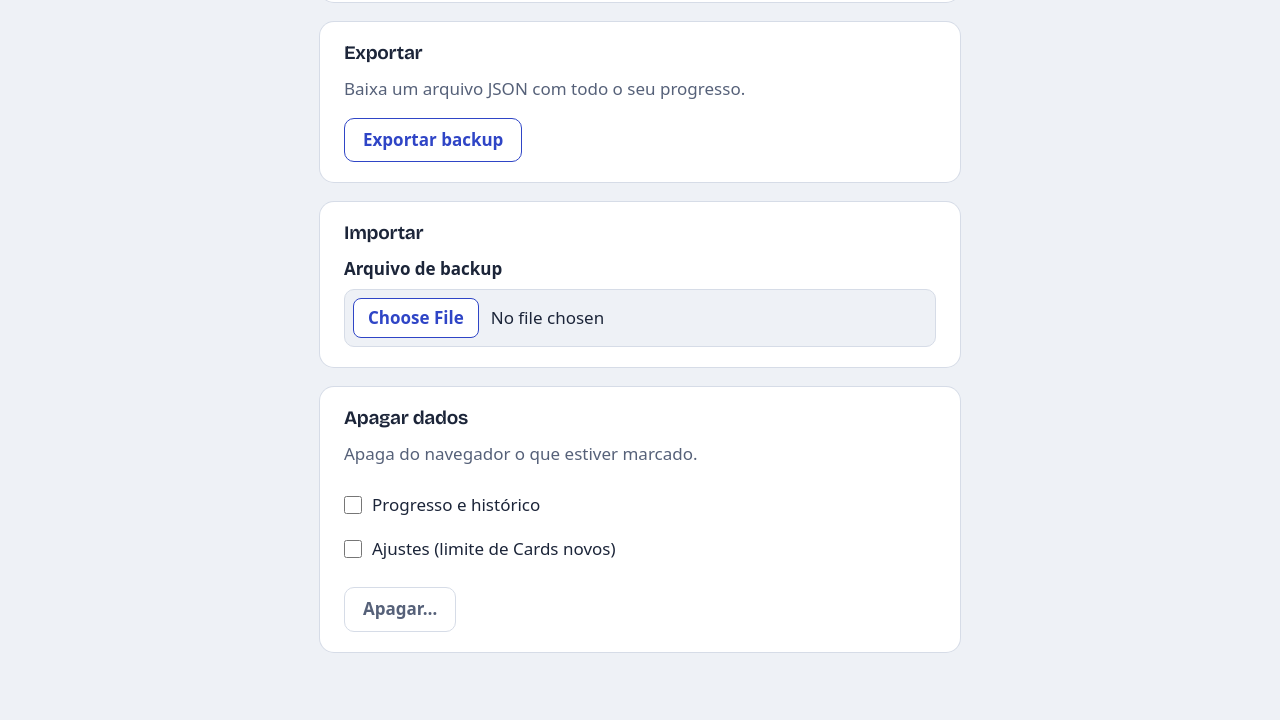
Test: Configuracoes › apagar dados › exportar antes baixa o backup sem fechar o modal
This screenshot has width=1280, height=720.
(page scrolled)
Step 1. Click the checkbox labelled "Progresso e histórico" → (353, 505), box [344,496,362,514]
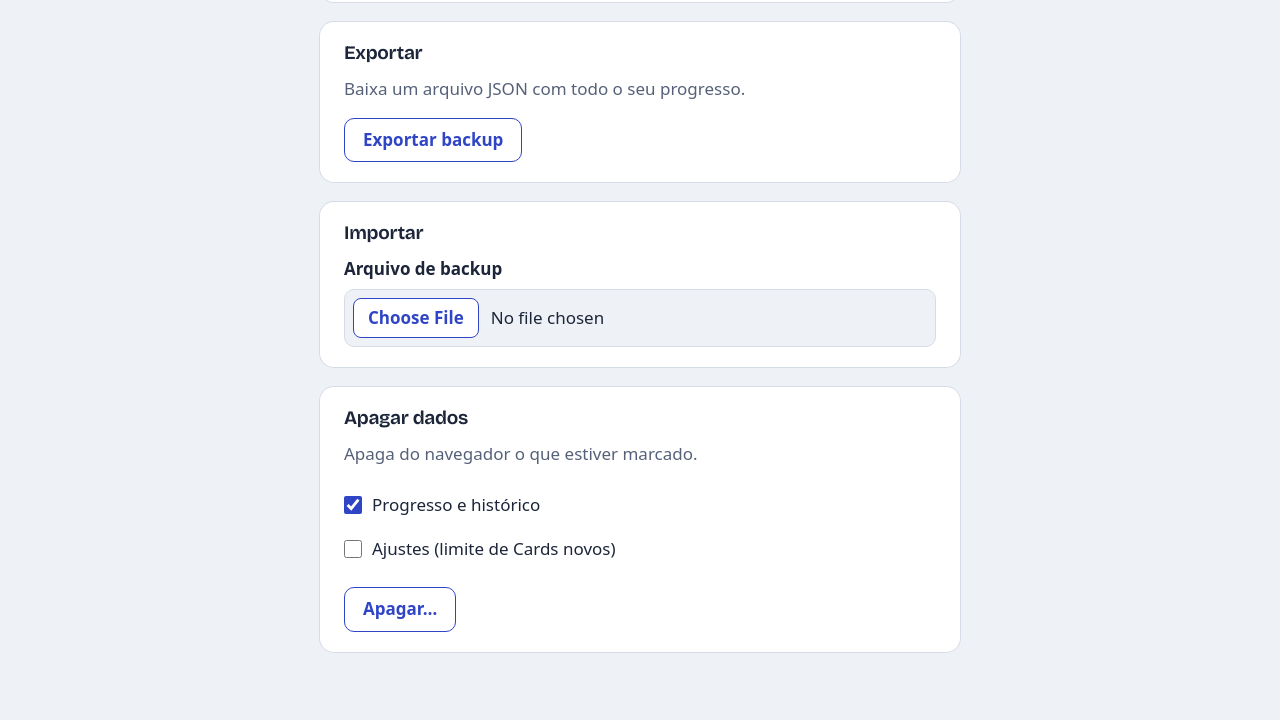
Step 2. Click the button "Apagar…" → (400, 609), box [344,587,456,632]
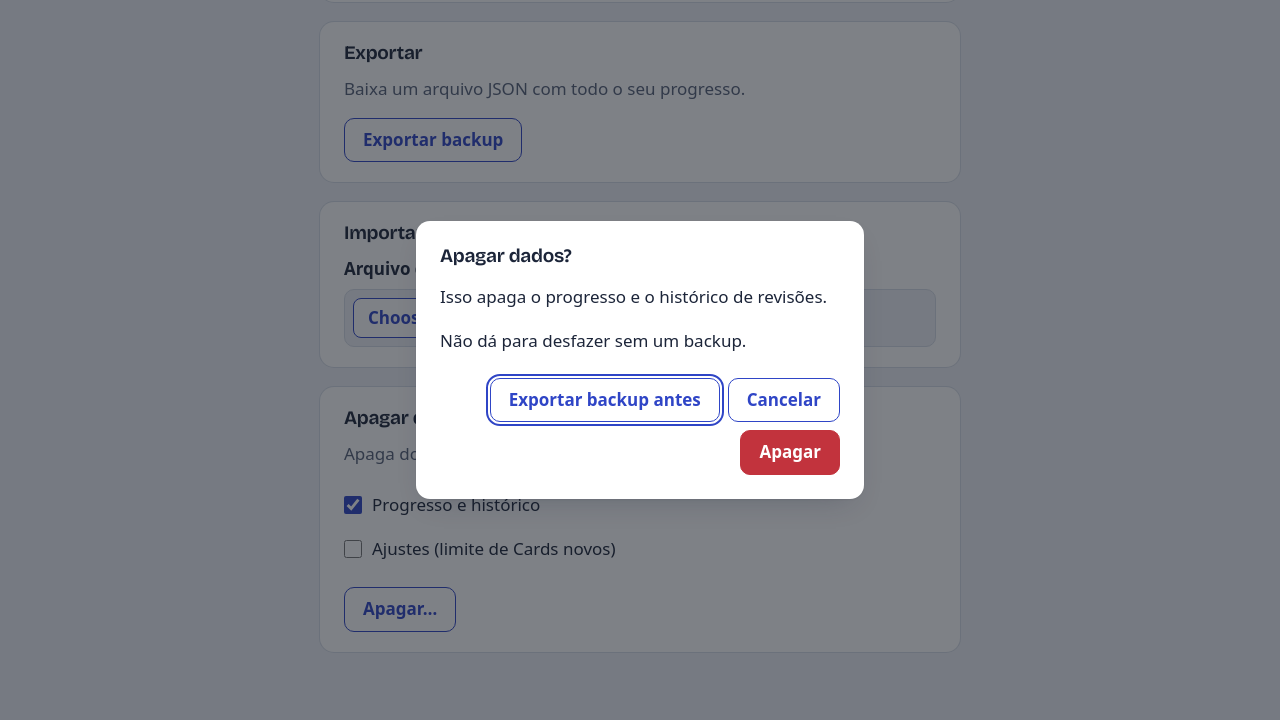
expect the dialog is shown: met, box [416,221,864,499]
Step 3. Click the button "Exportar backup antes" → (605, 400), box [490,378,720,422]
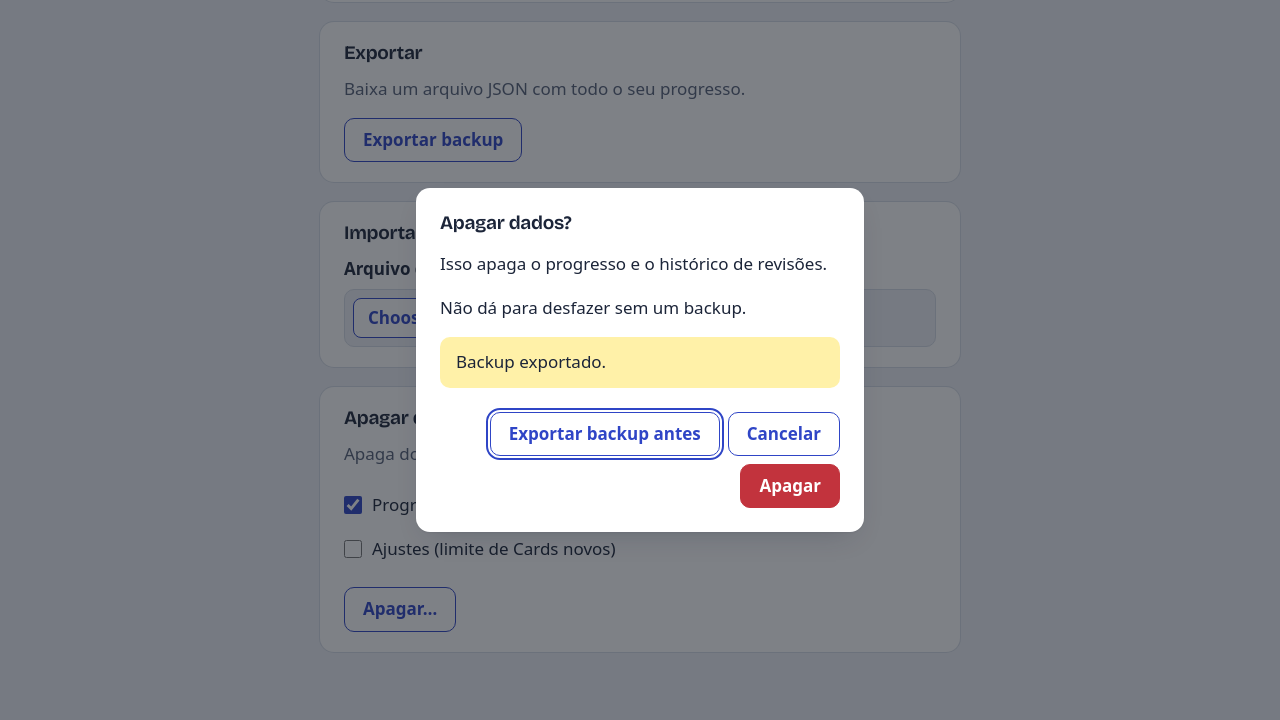
expect the dialog is shown: met, box [416,188,864,532]
expect the text "Backup exportado." is shown: met, box [440,337,840,388]
